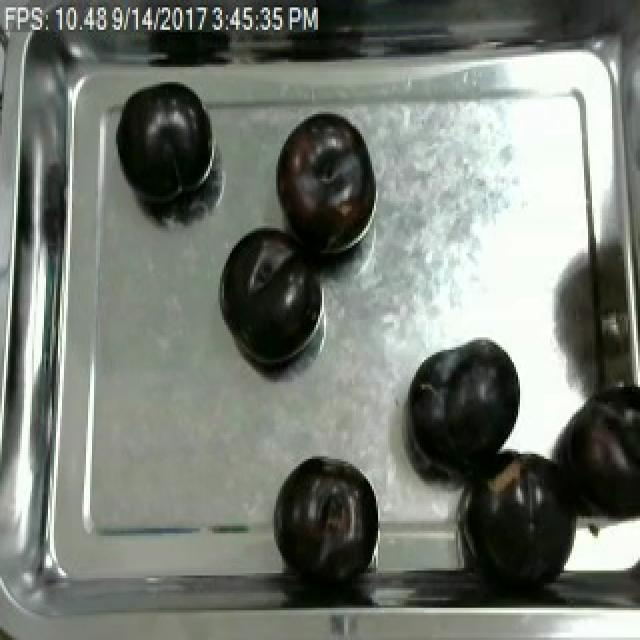Fruit: (398, 332, 532, 482), (464, 439, 590, 590), (270, 109, 378, 263), (214, 220, 322, 374), (110, 77, 218, 213), (270, 452, 380, 580), (554, 382, 640, 541)
